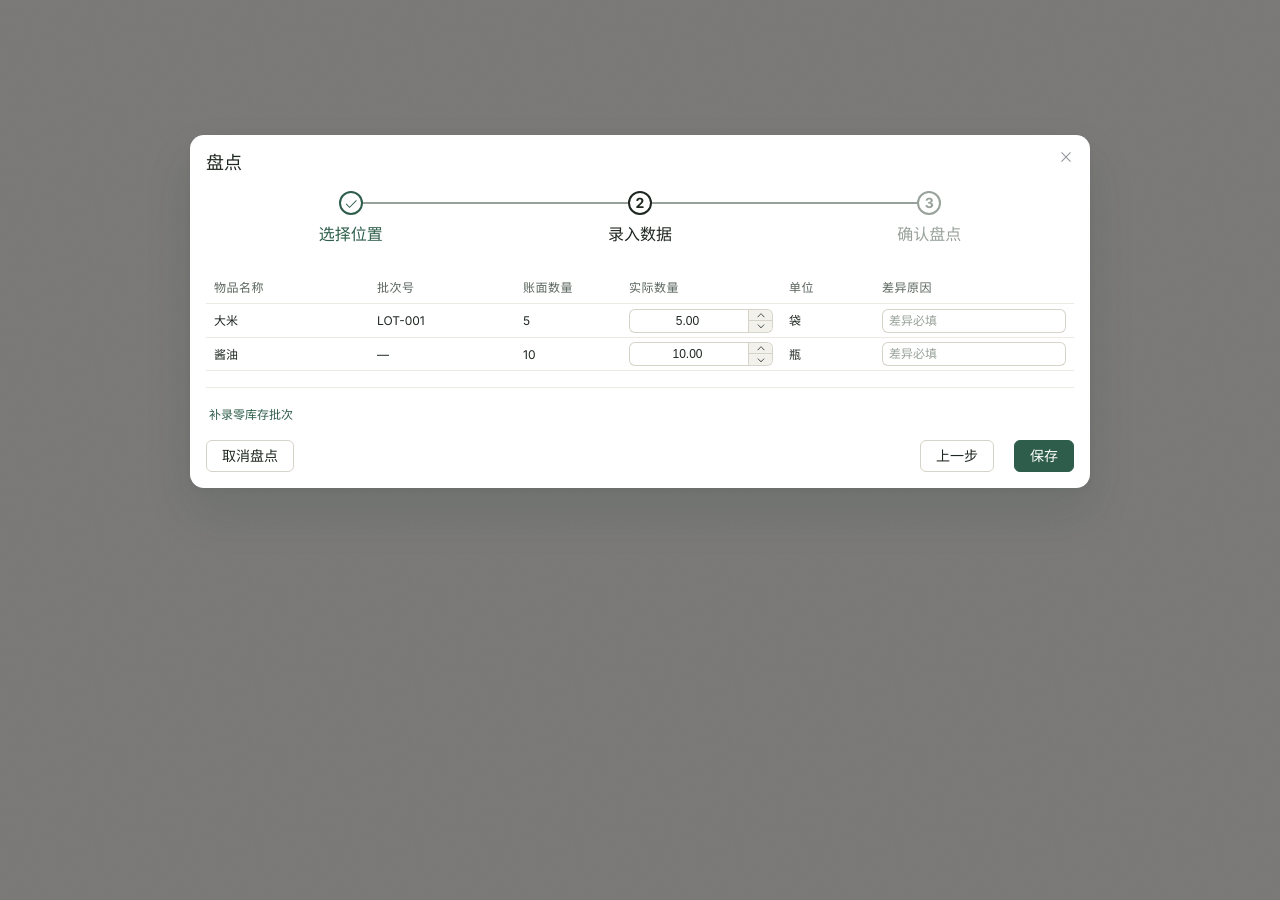
Test: StocktakeDialog › navigates between steps
Click the button "保存" at (1044, 456), box [1014, 440, 1074, 472]
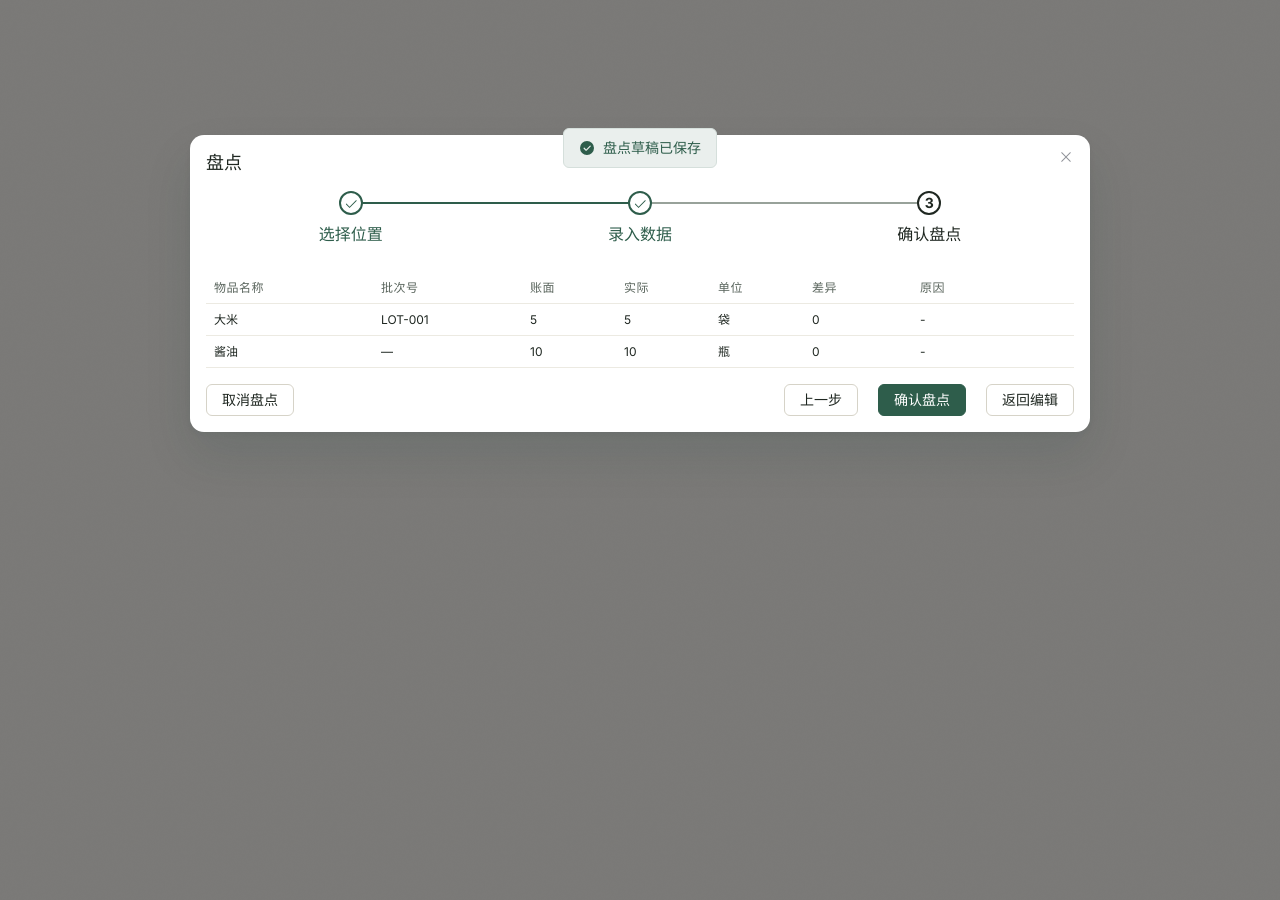
Expected: the text "差异" is shown, [812, 280, 837, 295]
Click the button "返回编辑" at (1030, 400), box [986, 384, 1074, 416]
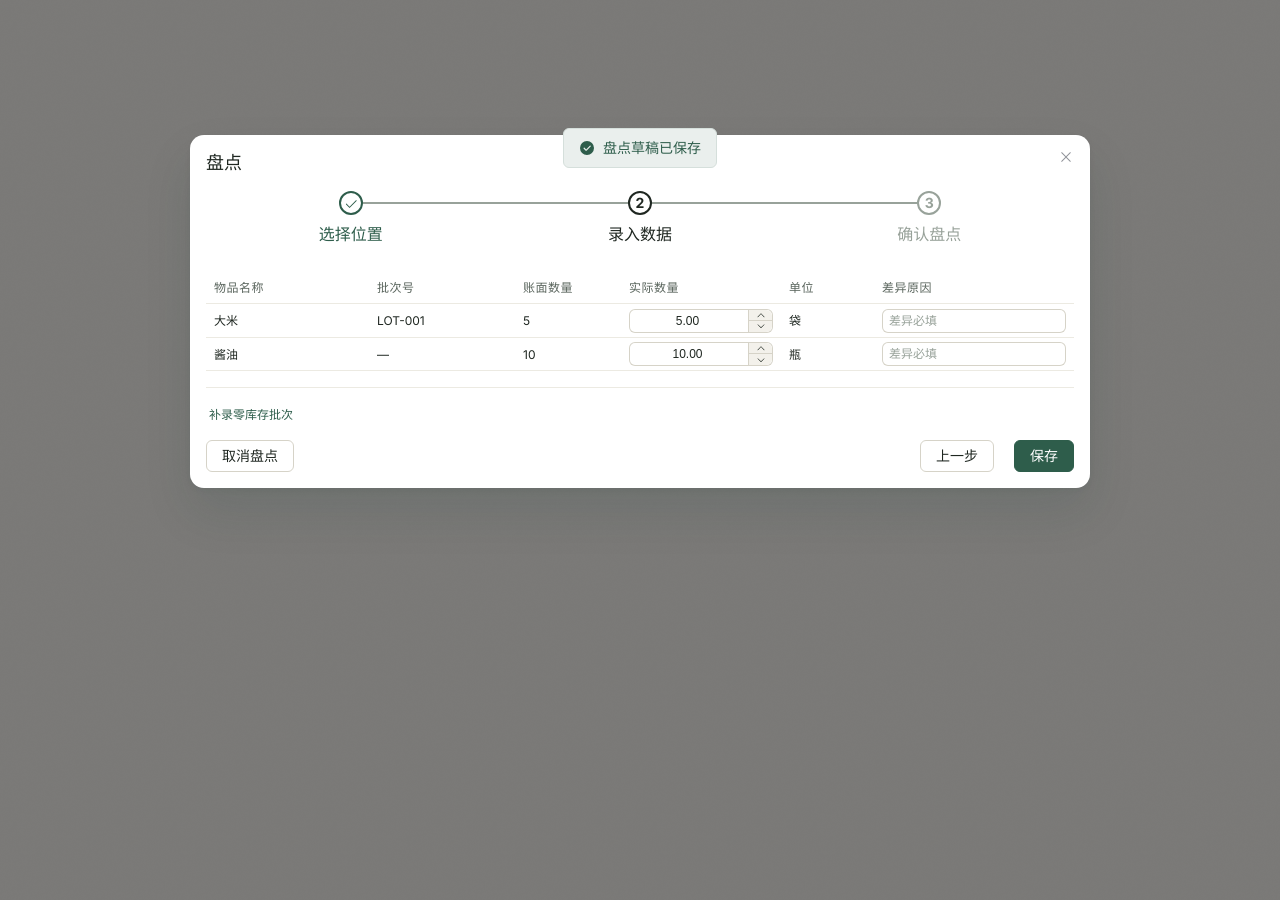
Expected: the text "账面数量" is shown, [523, 280, 573, 295]
